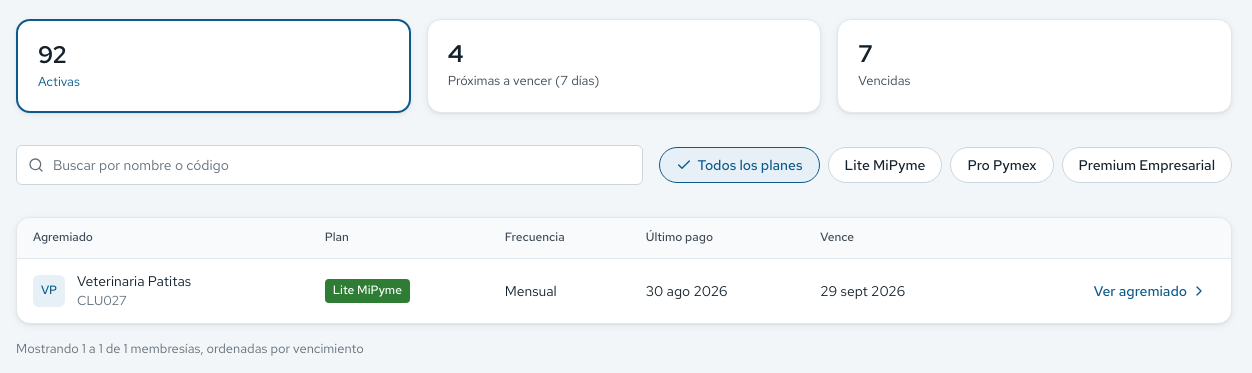
Test: AdminMembershipsPage › listing the expired ones names the plan that ran out and the day it ended
Click the button "7 Vencidas". click: [884, 80]
box: [837, 19, 1232, 113]
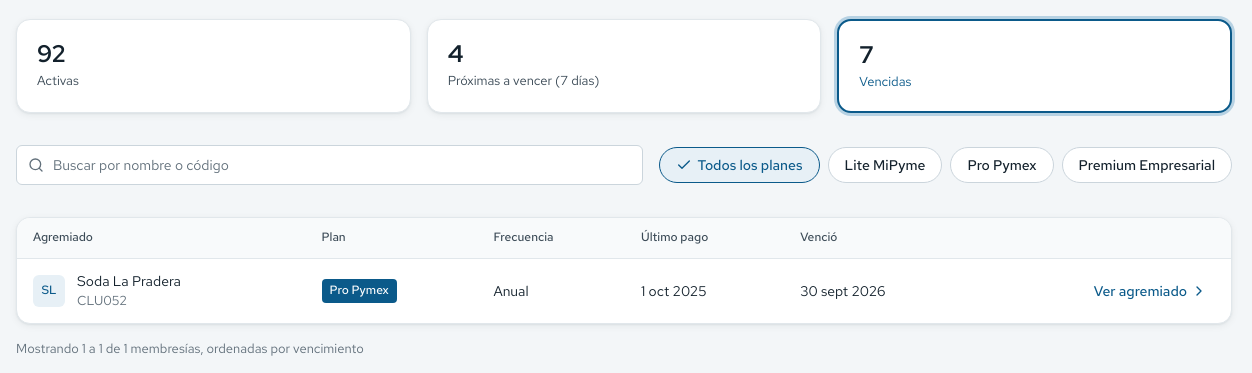
Expected: the column heading "Venció" is shown, [784, 218, 972, 258]
